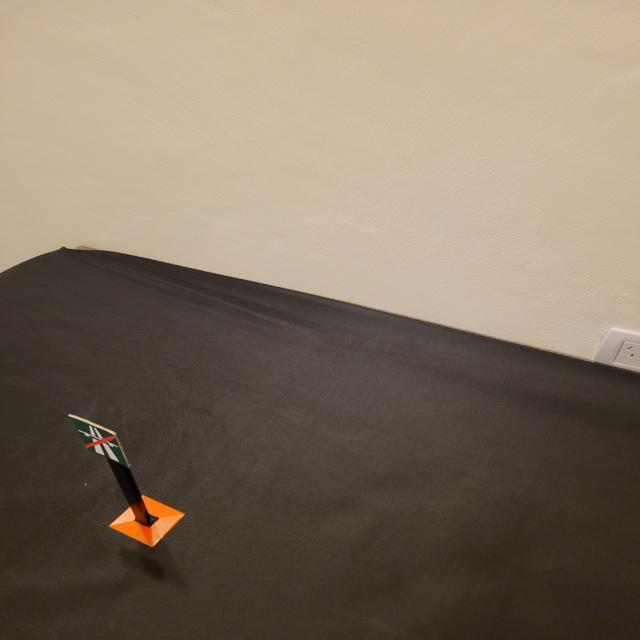highway_exit: (68, 414, 134, 469)
